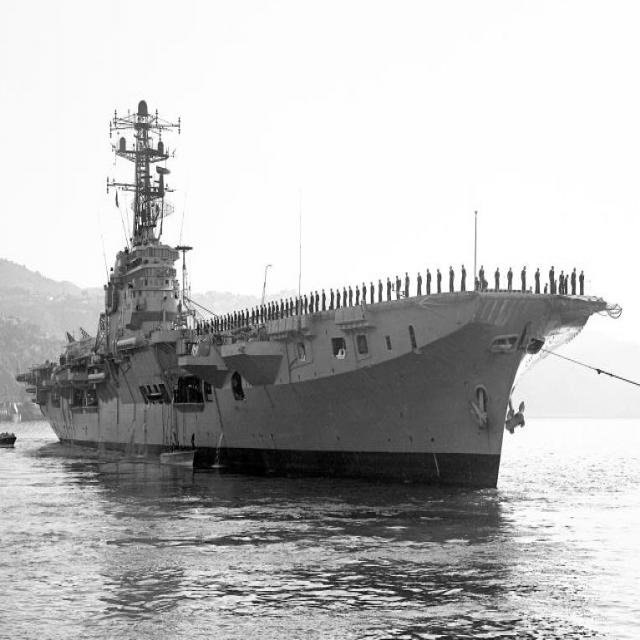Portanaves: (9, 78, 615, 489)
